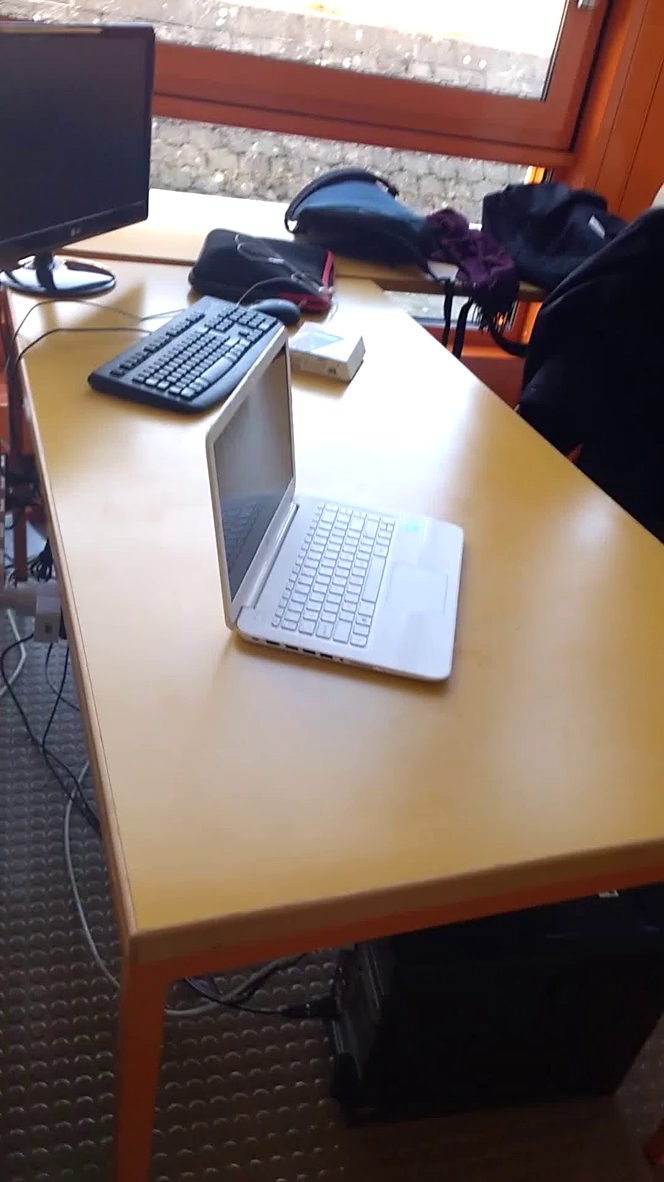bag: (465, 172, 657, 307), (281, 153, 453, 292)
laptop: (198, 318, 477, 696)
